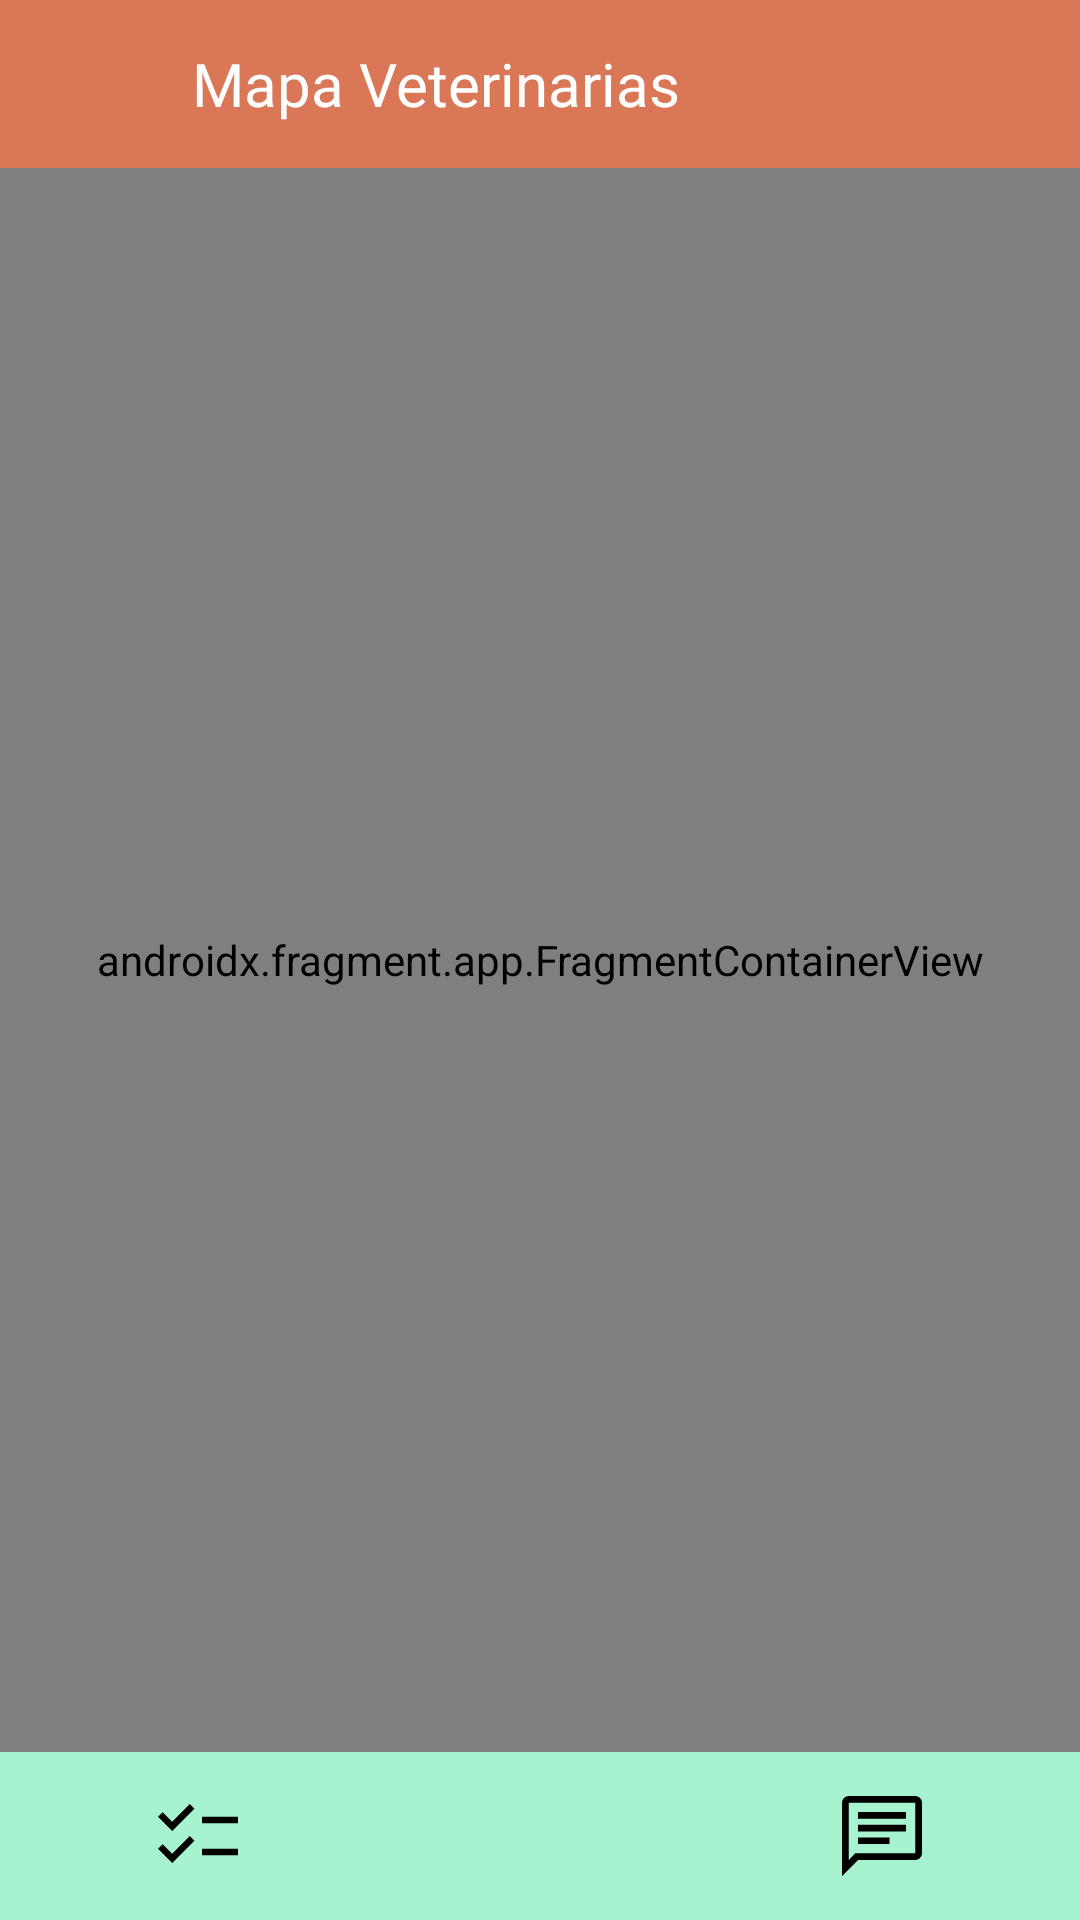

Icons on this 1080px x 1920px Android screen, each with its box as (x1, y1, x2, y2):
mis chats: (842, 1796, 922, 1876)
